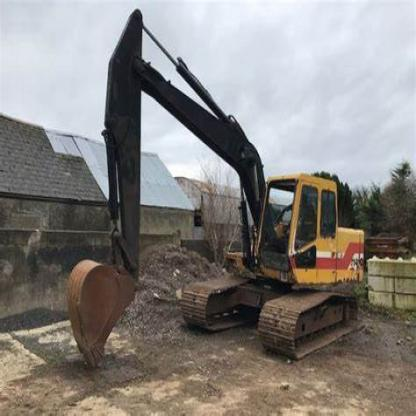excavator: (55, 6, 364, 375)
